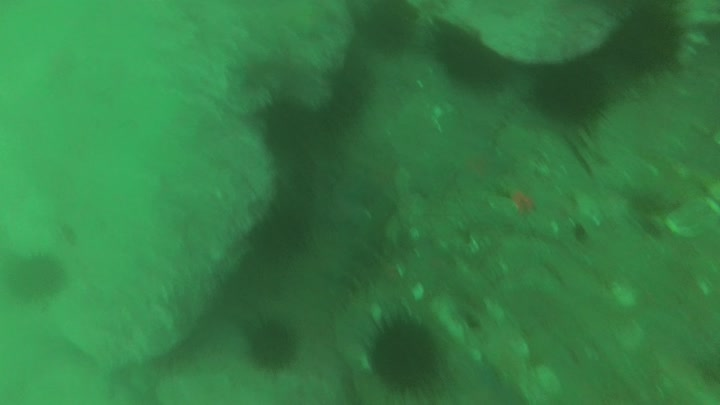echinus: (360, 305, 452, 402), (599, 7, 682, 79), (294, 63, 373, 136), (245, 194, 319, 270), (536, 60, 607, 130), (435, 29, 509, 89), (238, 317, 302, 374), (262, 145, 320, 203), (8, 251, 65, 310), (367, 1, 427, 56), (253, 100, 307, 150)
